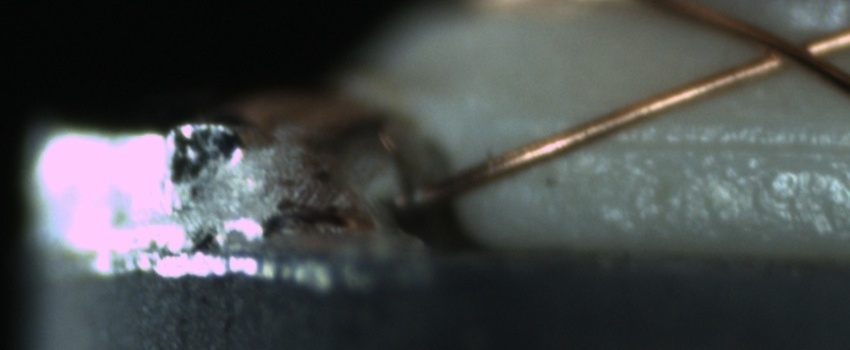CL: (743, 21, 837, 78)
DL: (563, 114, 843, 176)
